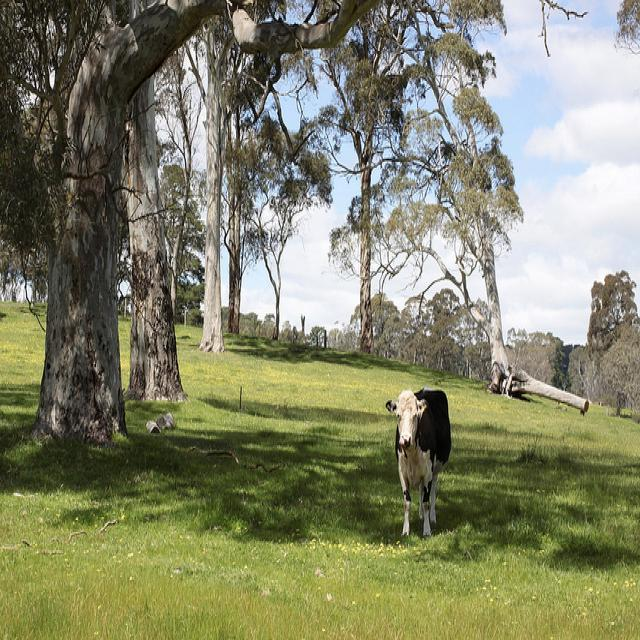cow: (382, 384, 452, 538)
